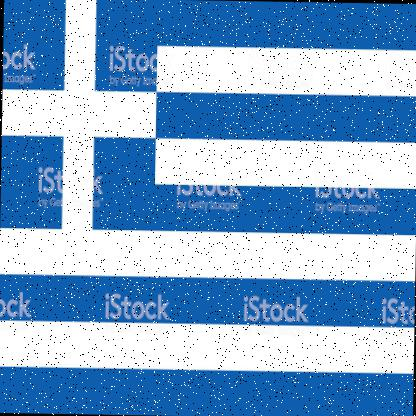gr: (1, 1, 416, 416)
